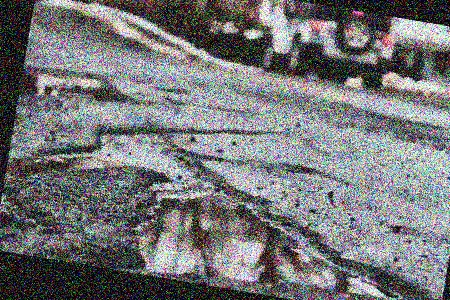pothole: (124, 168, 428, 300), (5, 103, 209, 211), (19, 61, 133, 113)
